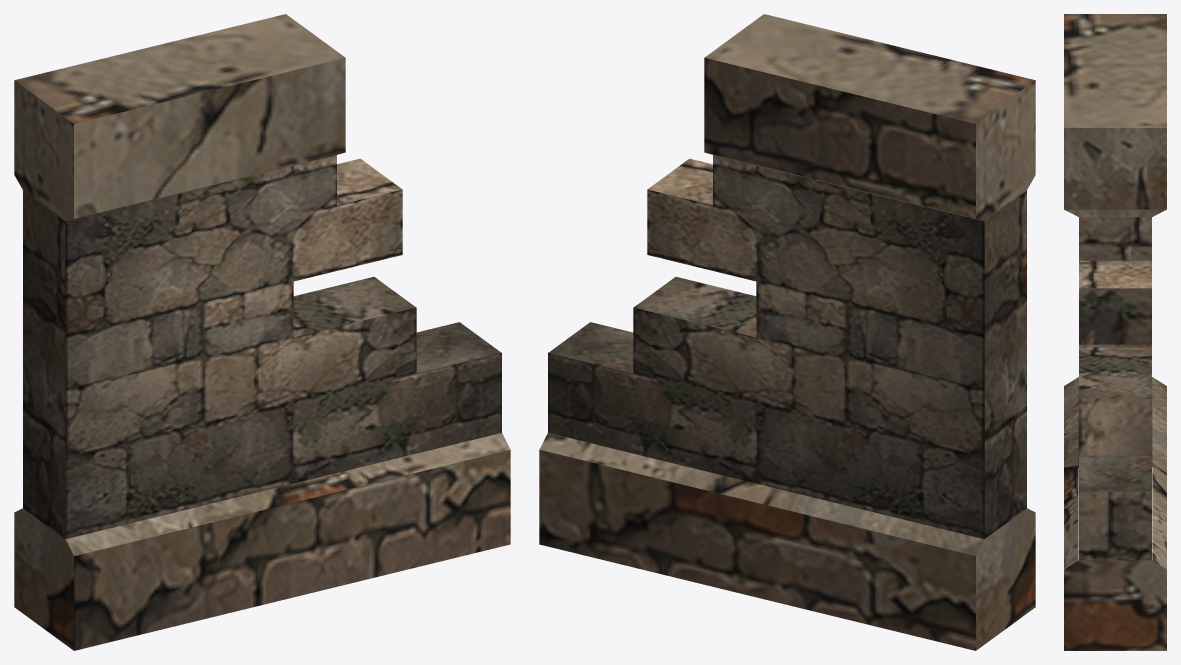
File: fence_2.fbx
3 views of the same model, side by side, from view 1: azimuth 30°, elevation 25°; view 2: azimuth 150°, elevation 25°; view 3: azimuth 270°, elevation 25° (orthographic). The views are drawn at different scales.
Parts seen in each view (by area): view 1: fence_2; view 2: fence_2; view 3: fence_2.
Part boxes in pixels (box(x1,y1,x2,y2)): fence_2: box(14, 14, 510, 650); fence_2: box(539, 14, 1035, 650); fence_2: box(1064, 14, 1166, 650).
Bounding box in the file's own units: 3 × 3.46 × 0.711.
